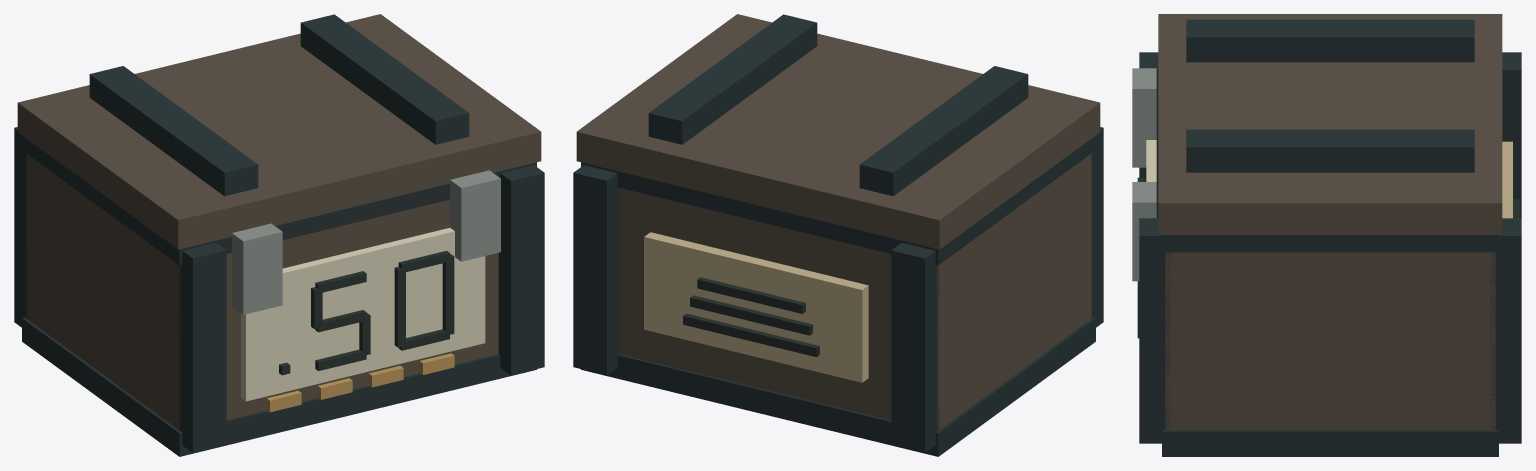
The model's file is FSA_AMMO_Pack_50.glb.
3 views of the same model, side by side, from view 1: azimuth 30°, elevation 25°; view 2: azimuth 150°, elevation 25°; view 3: azimuth 270°, elevation 25° (orthographic). The views are drawn at different scales.
Visible parts, largest first — view 1: ClosedLid, Package, LabelPlate, BaseSeam, CornerFront_-1, CornerFront_1, TopRib_-1, TopRib_1, LidSeam, Latch_-1, Latch_1, CornerBack_-1 (+9 smaller); view 2: ClosedLid, Package, RearPanel, BaseSeam, CornerBack_-1, CornerBack_1, TopRib_-1, TopRib_1, LidSeam, CornerFront_-1, RearLine_0, RearLine_1 (+1 smaller); view 3: Package, ClosedLid, TopRib_-1, TopRib_1, BaseSeam, CornerFront_1, CornerBack_1, LidSeam, CornerBack_-1, Latch_-1, Latch_1, CornerFront_-1 (+2 smaller).
Part boxes in pixels (x1=…): ClosedLid: x1=17, y1=14, x2=541, y2=249; Package: x1=26, y1=153, x2=498, y2=430; LabelPlate: x1=241, y1=228, x2=485, y2=401; BaseSeam: x1=22, y1=317, x2=536, y2=456; CornerFront_-1: x1=178, y1=242, x2=226, y2=452; CornerFront_1: x1=498, y1=165, x2=544, y2=375; TopRib_-1: x1=89, y1=66, x2=258, y2=196; TopRib_1: x1=300, y1=14, x2=469, y2=144; LidSeam: x1=22, y1=135, x2=536, y2=265; Latch_-1: x1=232, y1=223, x2=282, y2=314; Latch_1: x1=450, y1=170, x2=500, y2=261; CornerBack_-1: x1=14, y1=127, x2=28, y2=327; ClosedLid: x1=576, y1=14, x2=1100, y2=249; Package: x1=619, y1=153, x2=1091, y2=430; RearPanel: x1=644, y1=232, x2=868, y2=382; BaseSeam: x1=581, y1=317, x2=1095, y2=456; CornerBack_-1: x1=891, y1=242, x2=939, y2=452; CornerBack_1: x1=573, y1=165, x2=619, y2=375; TopRib_-1: x1=859, y1=66, x2=1028, y2=196; TopRib_1: x1=648, y1=14, x2=817, y2=144; LidSeam: x1=581, y1=135, x2=1095, y2=265; CornerFront_-1: x1=1091, y1=127, x2=1103, y2=327; RearLine_0: x1=683, y1=313, x2=819, y2=357; RearLine_1: x1=690, y1=295, x2=812, y2=335; Package: x1=1165, y1=252, x2=1495, y2=430; ClosedLid: x1=1158, y1=14, x2=1502, y2=234; TopRib_-1: x1=1186, y1=19, x2=1474, y2=62; TopRib_1: x1=1186, y1=129, x2=1474, y2=172; BaseSeam: x1=1162, y1=430, x2=1498, y2=456; CornerFront_1: x1=1139, y1=218, x2=1170, y2=443; CornerBack_1: x1=1490, y1=218, x2=1521, y2=443; LidSeam: x1=1162, y1=235, x2=1498, y2=252; CornerBack_-1: x1=1502, y1=52, x2=1521, y2=218; Latch_-1: x1=1132, y1=68, x2=1156, y2=167; Latch_1: x1=1132, y1=182, x2=1156, y2=281; CornerFront_-1: x1=1139, y1=52, x2=1158, y2=218.
Bounding box in the file's own units: 0.129 × 0.089 × 0.112.
